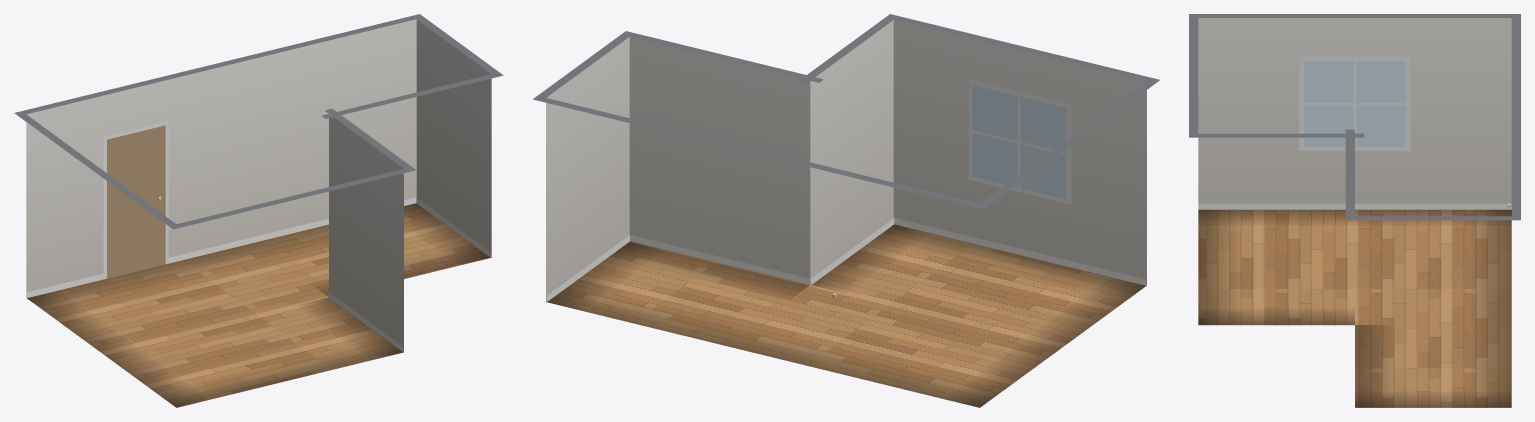
File: studio.glb
3 renders of one model, left to right at view 1: azimuth 30°, elevation 25°; view 2: azimuth 150°, elevation 25°; view 3: azimuth 270°, elevation 25°, orthographic. The views are drawn at different scales.
Parts seen in each view (by area): view 1: Home; view 2: Home; view 3: Home.
Part boxes in pixels (x1=…): Home: x1=14, y1=14, x2=503, y2=407; Home: x1=533, y1=14, x2=1159, y2=407; Home: x1=1189, y1=14, x2=1520, y2=407.
Size of the model in its own units: 6.24 by 2.7 by 4.24.
9 materials, 1 textured.
